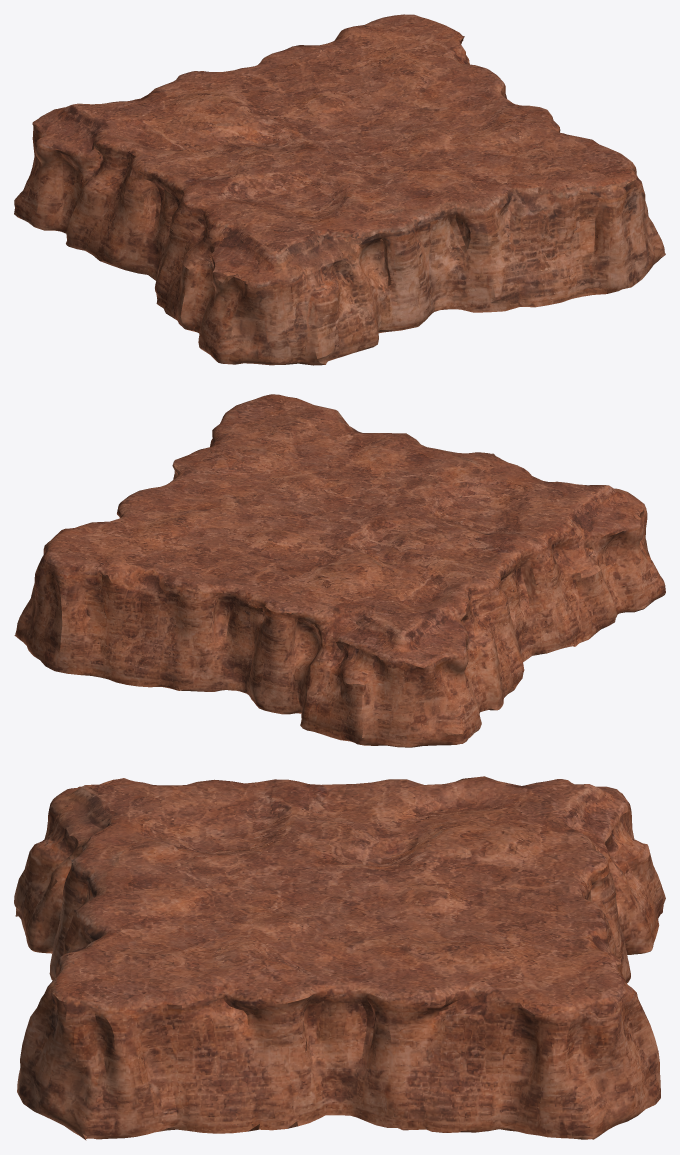
The model's file is Desert_Cliff_Wide_Mesa_Low_runtime_2k_lods.glb.
3 renders of one model, top to bottom at view 1: azimuth 30°, elevation 25°; view 2: azimuth 150°, elevation 25°; view 3: azimuth 270°, elevation 25°, orthographic. The views are drawn at different scales.
Visible parts, largest first — view 1: DesertCliffWideLow_LOD0; view 2: DesertCliffWideLow_LOD0; view 3: DesertCliffWideLow_LOD0.
Part boxes in pixels (x1=…): DesertCliffWideLow_LOD0: x1=14, y1=14, x2=665, y2=365; DesertCliffWideLow_LOD0: x1=14, y1=394, x2=665, y2=747; DesertCliffWideLow_LOD0: x1=14, y1=776, x2=665, y2=1140.
Size of what is drawn, in the model's own units: 1.87 by 0.4122 by 1.9.
1 material, 1 textured.
